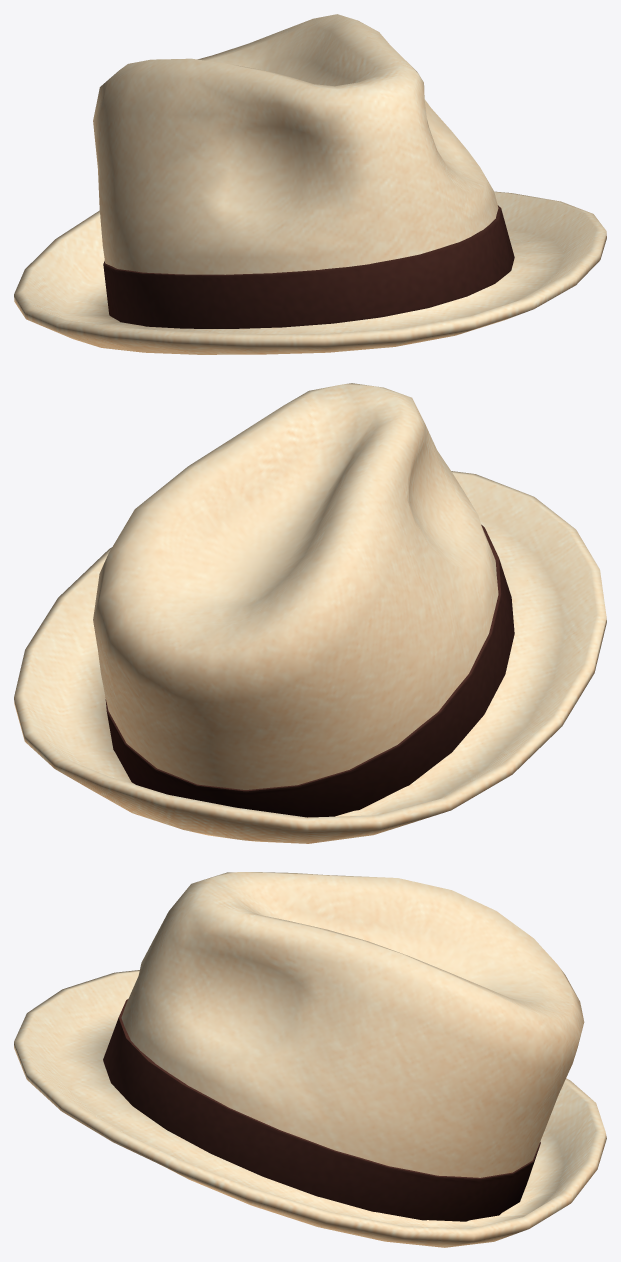
3 views of the same model, one above another, from view 1: azimuth 30°, elevation 25°; view 2: azimuth 150°, elevation 25°; view 3: azimuth 270°, elevation 25° (orthographic). The views are drawn at different scales.
Visible parts, largest first — view 1: model_14; view 2: model_14; view 3: model_14.
Boxes of the visible parts, x1,y1,x2,y2 form: model_14: (14,14,606,354); model_14: (14,383,606,843); model_14: (14,872,606,1247).
Size of the model in its own units: 1.16 by 0.7216 by 1.26.
Materials: 1 (1 with a texture image).
